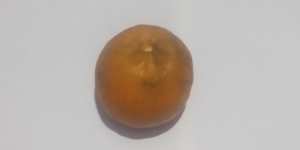BAD: (95, 24, 194, 131)
